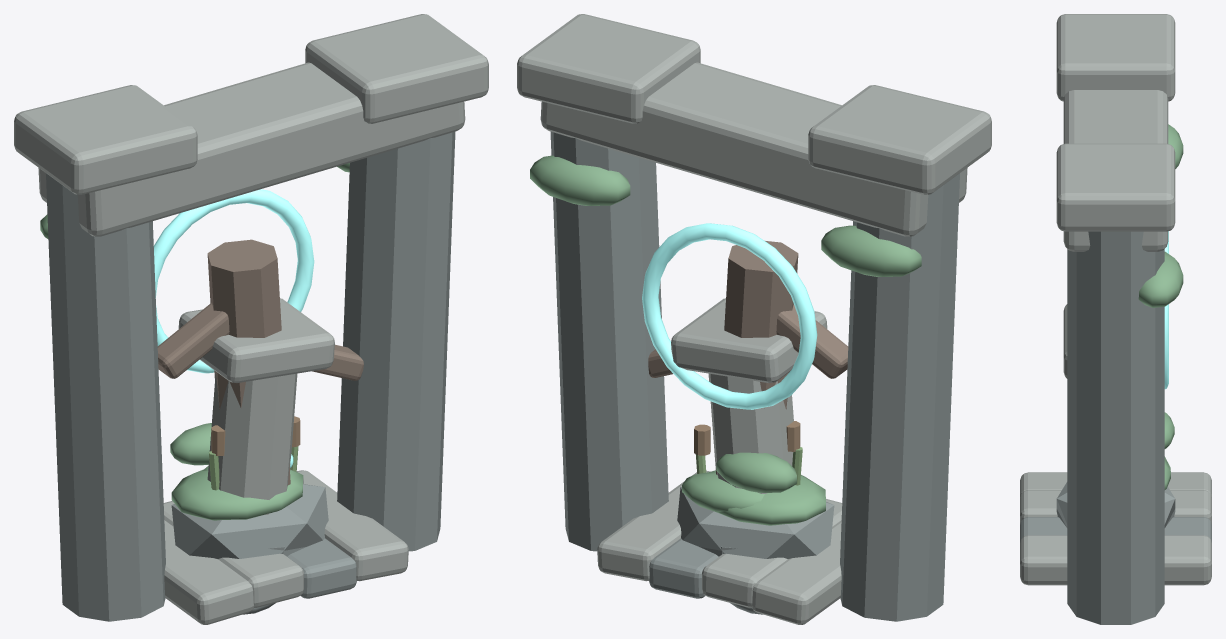
Rendered from sunken-marsh-kit.glb.
The picture shows the model from 3 angles, left to right: view 1: azimuth 30°, elevation 25°; view 2: azimuth 150°, elevation 25°; view 3: azimuth 270°, elevation 25°; orthographic projection. The views are drawn at different scales.
Parts seen in each view (by area): view 1: GateColumn_-0.88, GateColumn_0.88, GateLintel, GateCap_-0.88, GateCap_0.88, ColumnShaft, MossRockBody, DeadTreeTrunk, ColumnCap, BridgeSlab_0, GateWaterSeal, BridgeSlab_3 (+6 smaller); view 2: GateColumn_-0.88, GateColumn_0.88, GateLintel, GateCap_-0.88, GateCap_0.88, GateWaterSeal, ColumnCap, MossRockBody, DeadTreeTrunk, BridgeSlab_0, ColumnShaft, BridgeSlab_3 (+8 smaller); view 3: GateColumn_0.88, GateCap_0.88, GateCap_-0.88, GateLintel, BridgeSlab_3, BridgeSlab_1, BridgeSlab_2, BridgeSlab_0, GateMoss_0.88, MossRockBody, GateWaterSeal, GateMoss_-0.88 (+2 smaller).
Part boxes in pixels (x1=…): GateColumn_-0.88: x1=46, y1=173, x2=165, y2=621; GateColumn_0.88: x1=337, y1=131, x2=455, y2=551; GateLintel: x1=38, y1=62, x2=465, y2=236; GateCap_-0.88: x1=14, y1=85, x2=197, y2=194; GateCap_0.88: x1=305, y1=14, x2=488, y2=123; ColumnShaft: x1=207, y1=371, x2=297, y2=515; MossRockBody: x1=171, y1=484, x2=328, y2=558; DeadTreeTrunk: x1=207, y1=239, x2=290, y2=485; ColumnCap: x1=178, y1=298, x2=334, y2=382; BridgeSlab_0: x1=164, y1=520, x2=253, y2=624; GateWaterSeal: x1=153, y1=189, x2=314, y2=373; BridgeSlab_3: x1=296, y1=470, x2=408, y2=581; GateColumn_-0.88: x1=840, y1=173, x2=959, y2=621; GateColumn_0.88: x1=550, y1=131, x2=668, y2=551; GateLintel: x1=540, y1=62, x2=967, y2=236; GateCap_-0.88: x1=808, y1=85, x2=991, y2=194; GateCap_0.88: x1=517, y1=14, x2=700, y2=123; GateWaterSeal: x1=642, y1=223, x2=817, y2=409; ColumnCap: x1=671, y1=298, x2=827, y2=382; MossRockBody: x1=677, y1=487, x2=834, y2=558; DeadTreeTrunk: x1=716, y1=241, x2=798, y2=474; BridgeSlab_0: x1=752, y1=520, x2=841, y2=624; ColumnShaft: x1=708, y1=373, x2=793, y2=493; BridgeSlab_3: x1=597, y1=470, x2=710, y2=581; GateColumn_0.88: x1=1067, y1=231, x2=1164, y2=624; GateCap_0.88: x1=1056, y1=143, x2=1175, y2=231; GateCap_-0.88: x1=1056, y1=14, x2=1175, y2=101; GateLintel: x1=1063, y1=90, x2=1168, y2=251; BridgeSlab_3: x1=1020, y1=535, x2=1211, y2=585; BridgeSlab_1: x1=1020, y1=490, x2=1211, y2=524; BridgeSlab_2: x1=1020, y1=517, x2=1211, y2=542; BridgeSlab_0: x1=1020, y1=472, x2=1211, y2=497; GateMoss_0.88: x1=1138, y1=251, x2=1183, y2=307; MossRockBody: x1=1056, y1=482, x2=1175, y2=527; GateWaterSeal: x1=1164, y1=231, x2=1168, y2=389; GateMoss_-0.88: x1=1168, y1=124, x2=1183, y2=168.
Size of the model in its own units: 2.52 by 3.06 by 1.1.
